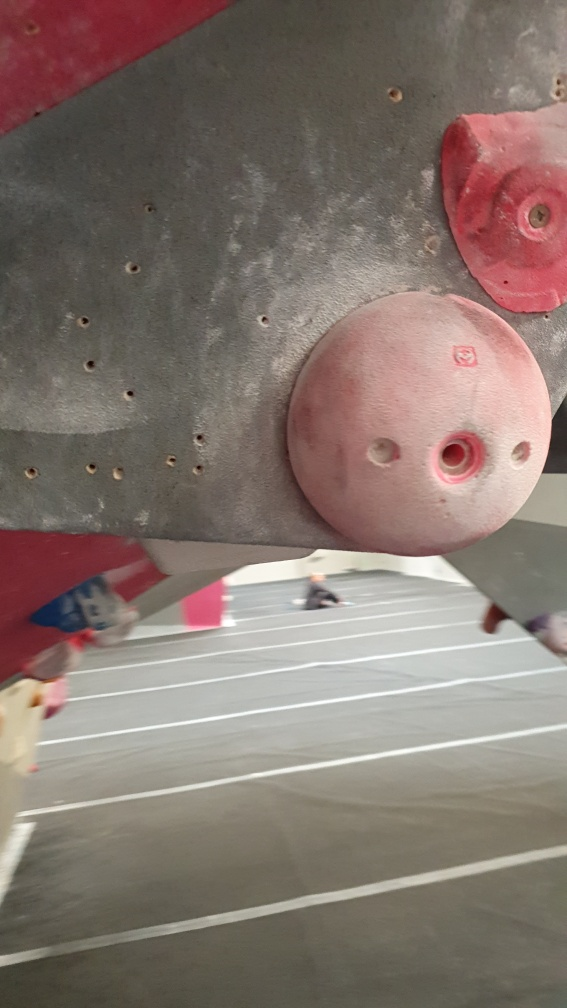Jug: (34, 576, 129, 642)
Sloper: (280, 287, 552, 554)
